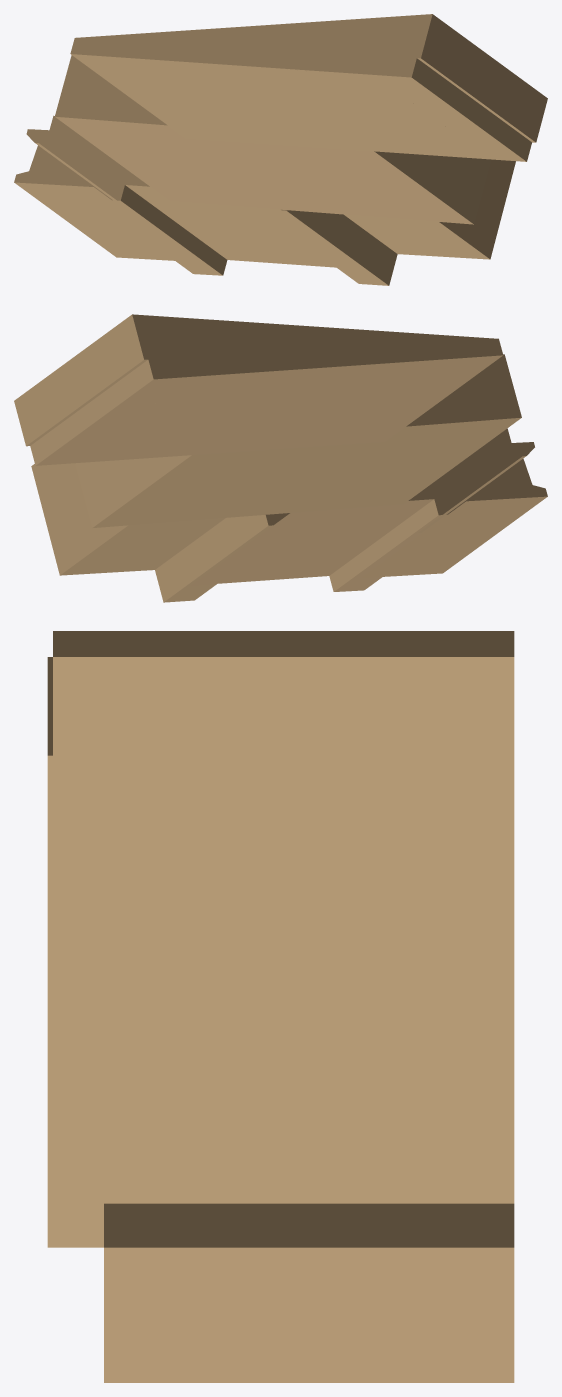
3 renders of one model, top to bottom at view 1: azimuth 30°, elevation 25°; view 2: azimuth 150°, elevation 25°; view 3: azimuth 270°, elevation 25°, orthographic. The views are drawn at different scales.
Visible parts, largest first — view 1: 0_3_1_3_3_3_2_3; view 2: 0_3_1_3_3_3_2_3; view 3: 0_3_1_3_3_3_2_3.
Boxes of the visible parts, x1,y1,x2,y2 form: 0_3_1_3_3_3_2_3: [14, 14, 547, 285]; 0_3_1_3_3_3_2_3: [14, 314, 547, 602]; 0_3_1_3_3_3_2_3: [47, 631, 514, 1382].
Bounding box in the file's own units: 56.59 × 29.03 × 27.3.
